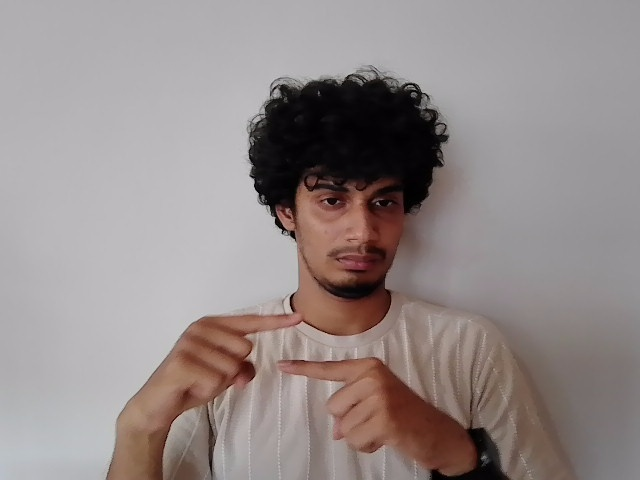about: (120, 310, 475, 462)
